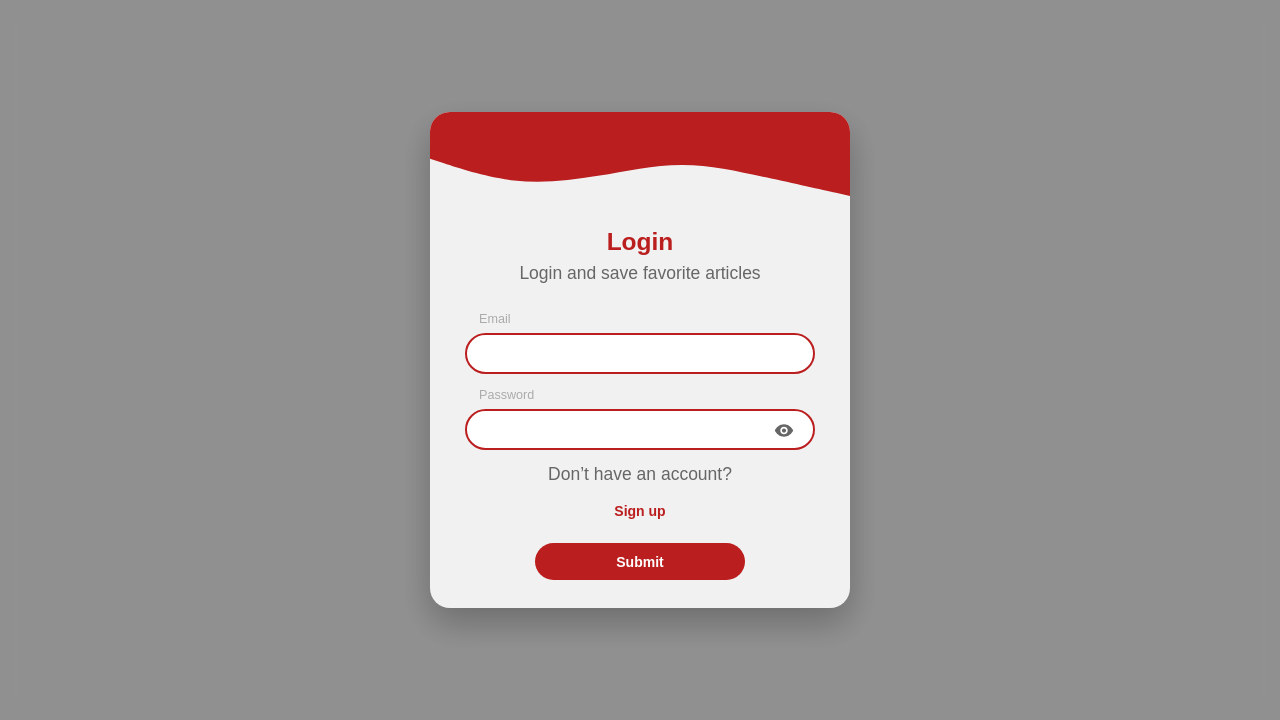
Test: Login/Register Modal › switches to register and shows required name fields
Click the button "Sign up": click(640, 511) [548, 492, 732, 529]
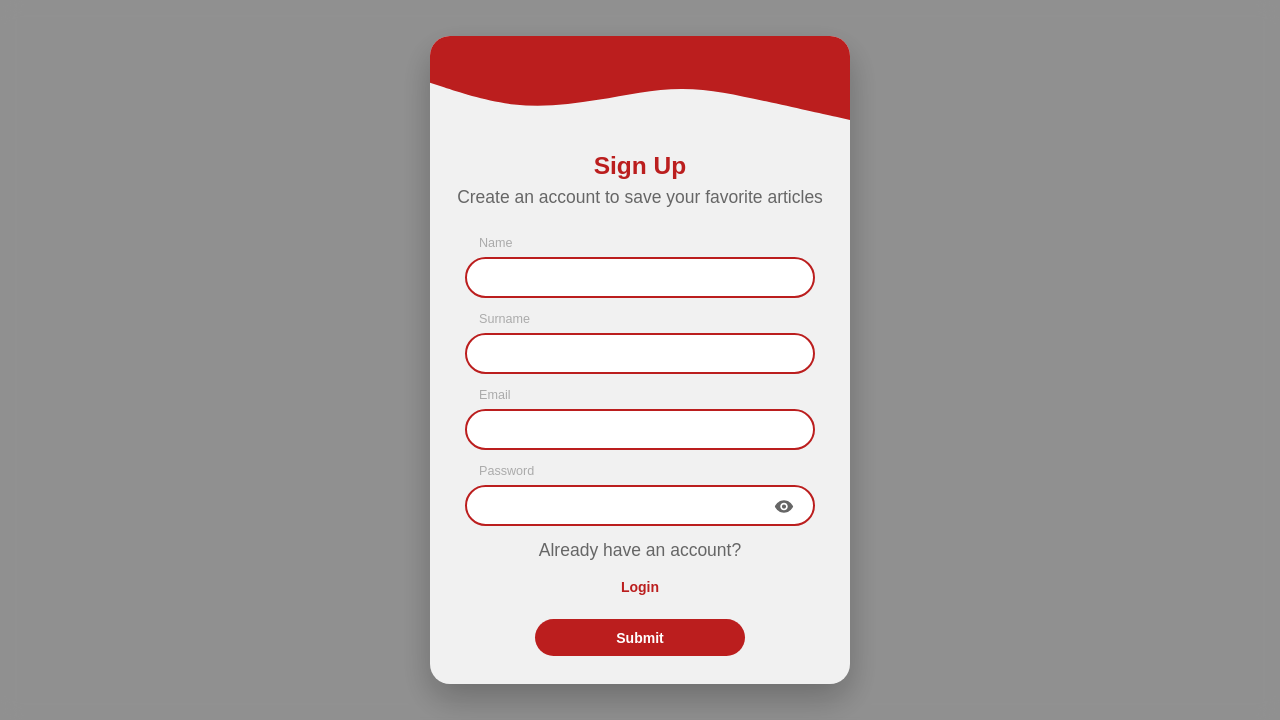
Expected: the field labelled "Surname" is shown, [465, 333, 815, 374]
Now the field labelled "Name" is shown, box [465, 257, 815, 298]
